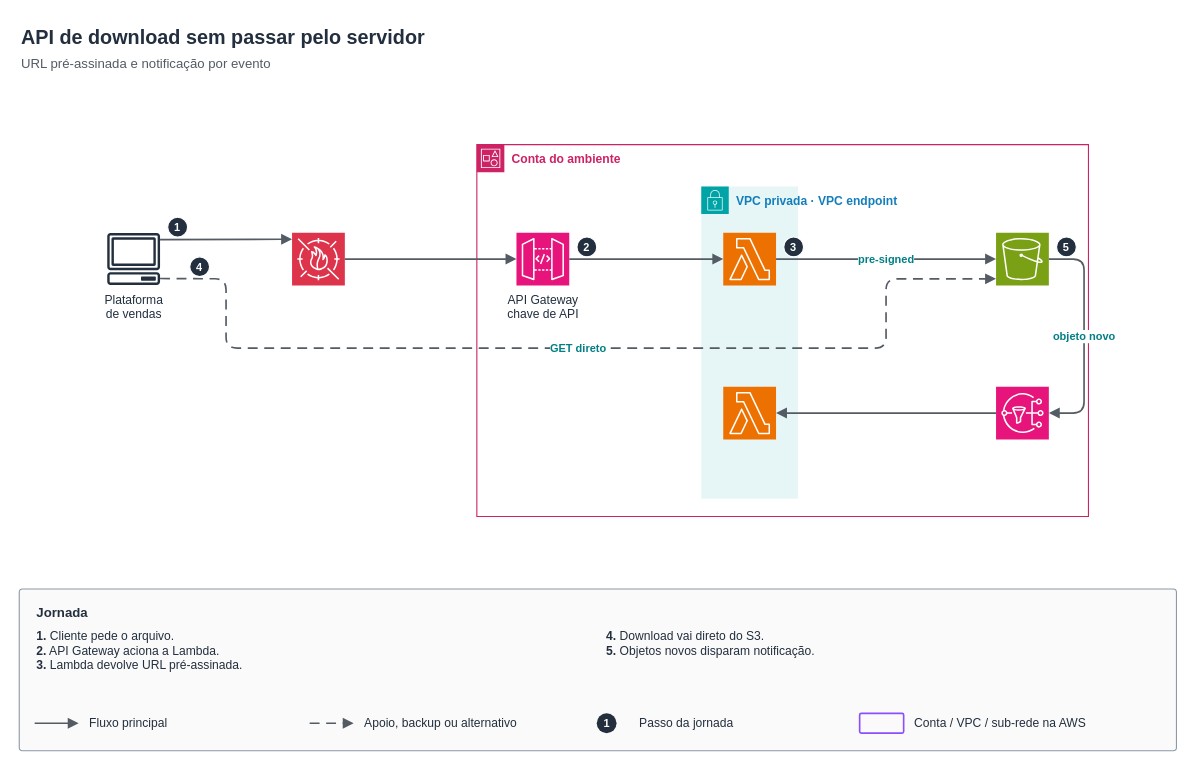
Some shapes in this 1196 by 770 pixel diagram are drawn without their labels. Here are the shapes that lost their labels. From the top down, the centre of each, then its label:
the point at 318,258: AWS WAF
the point at 749,258: Lambda gera URL
the point at 1022,258: S3 propostas
the point at 749,412: Lambda notificação
the point at 1022,412: SNS gatilho
